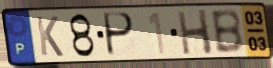1: (147, 11, 166, 55)
8: (68, 12, 96, 59)
B: (208, 7, 246, 55)
H: (175, 8, 215, 57)
K: (34, 15, 65, 59)
P: (103, 11, 136, 58)
